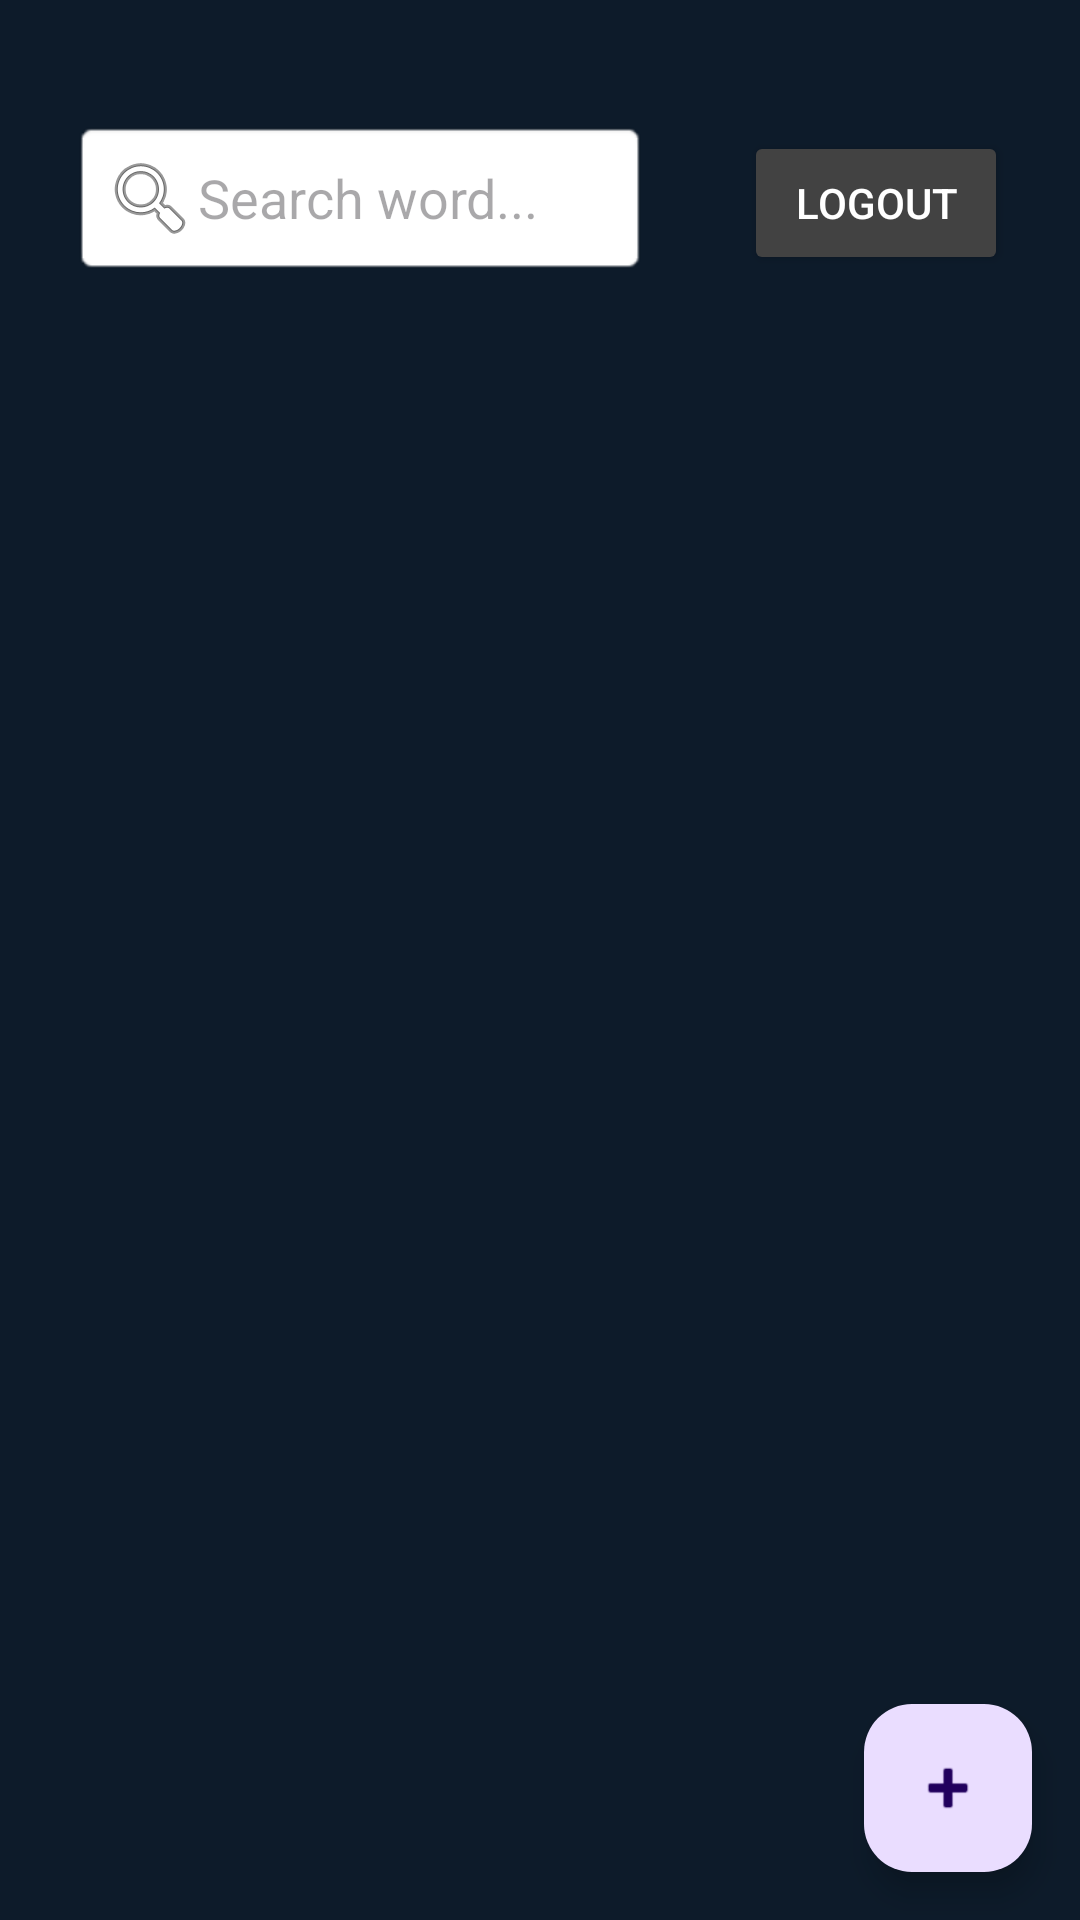

Locate icon controls on the screen. Image size 1080x1920, boxes as (x1, y1, x2, y2).
Add Word: (864, 1704, 1032, 1872)
